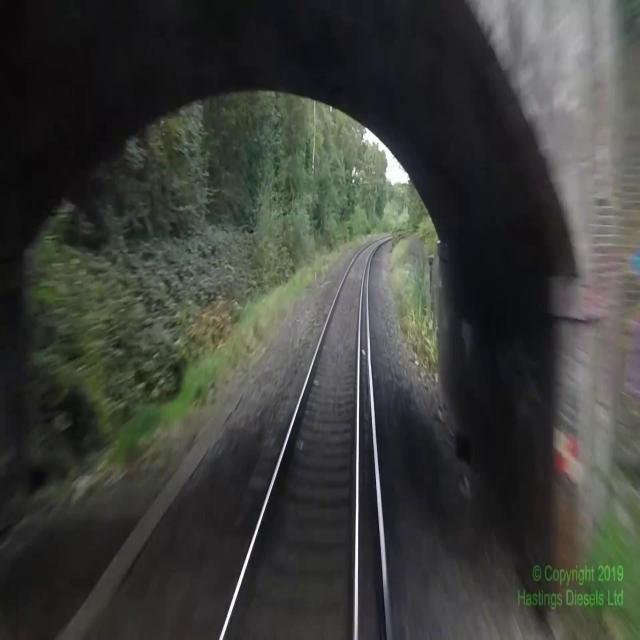rail-track: (223, 236, 391, 639)
